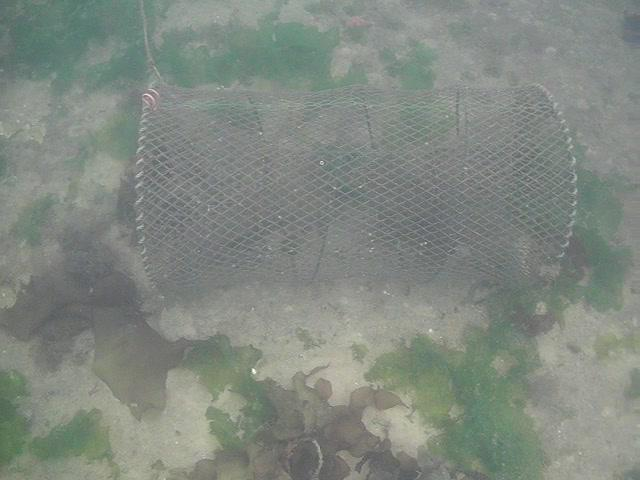spring fish trap: (132, 72, 582, 295)
